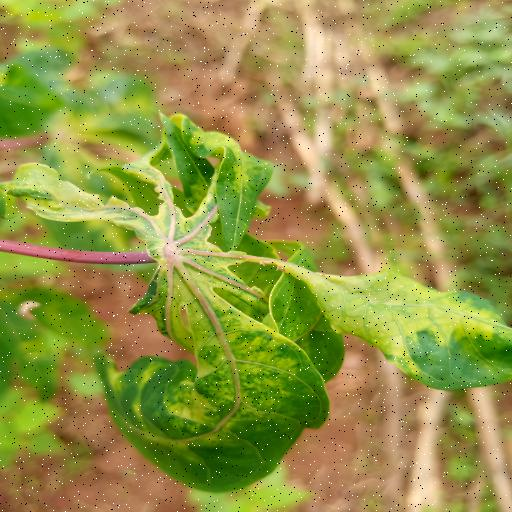Cassava_Mosaic: (12, 112, 512, 495)
